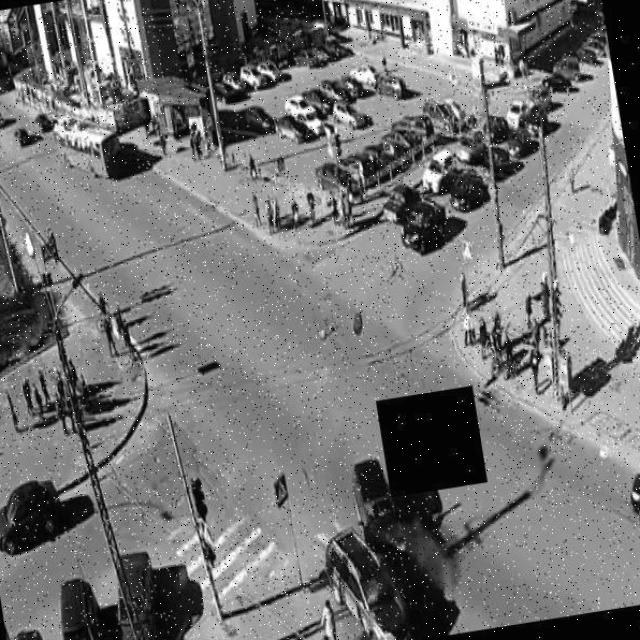accident: (305, 448, 425, 640)
